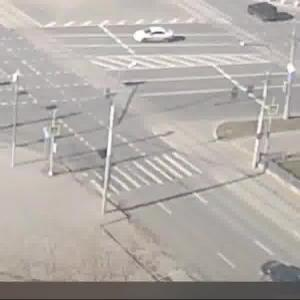car: (133, 24, 179, 47), (249, 2, 291, 24), (261, 259, 300, 281)
